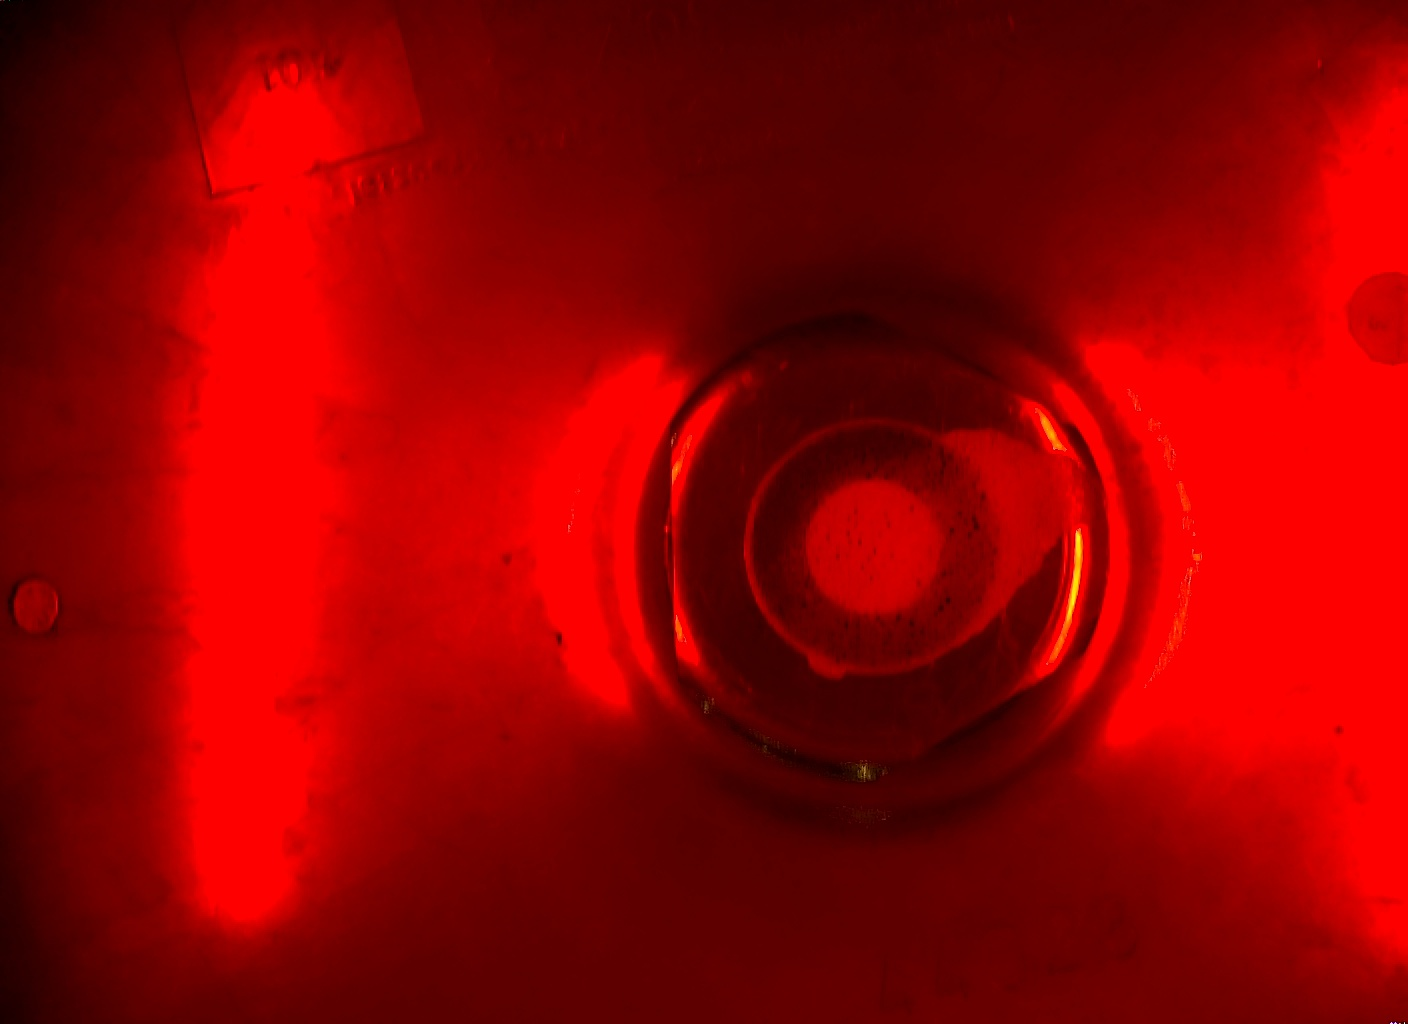pena: (739, 416, 1098, 678)
